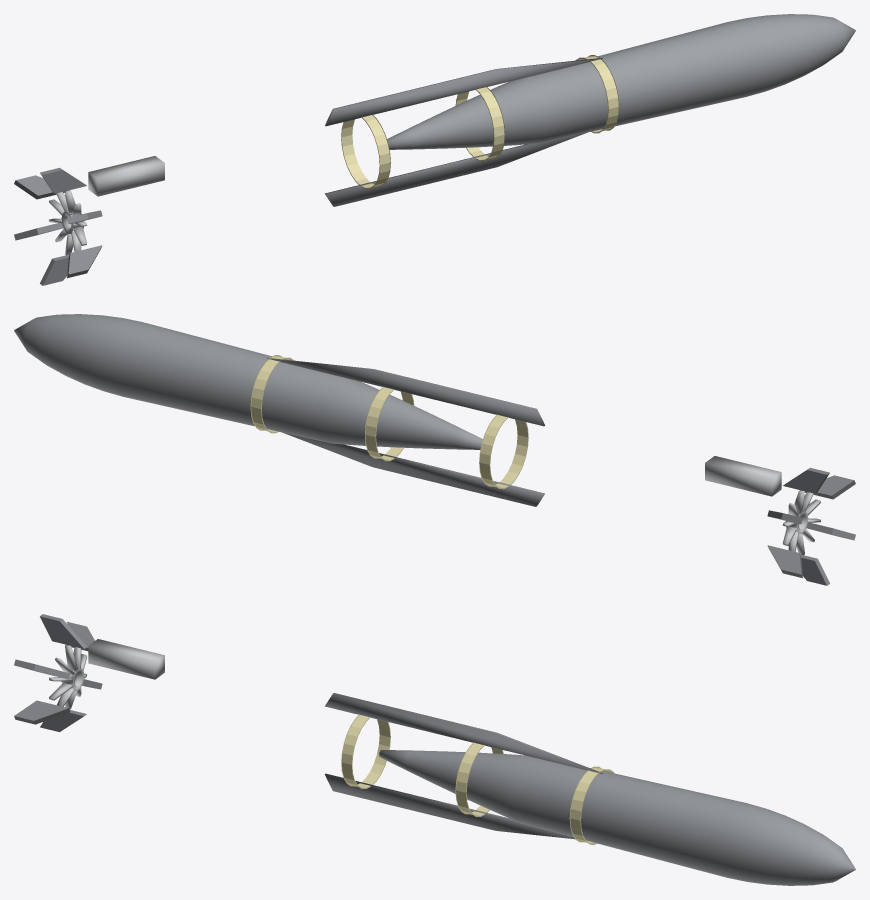
The model's file is RU_TORP_Fizik_LOD1.fbx.
The picture shows the model from 3 angles, top to bottom: view 1: azimuth 30°, elevation 25°; view 2: azimuth 150°, elevation 25°; view 3: azimuth 330°, elevation 25°; orthographic projection.
Visible parts, largest first — view 1: WPN_RU_TORP_Fizik_LOD1_Body, WPN_RU_TORP_Fizik_LOD1_Detail, WPN_RU_TORP_Fizik_LOD1_Marking, WPN_RU_TORP_Fizik_LOD1_Fins, WPN_RU_TORP_Fizik_LOD1_Propulsor; view 2: WPN_RU_TORP_Fizik_LOD1_Body, WPN_RU_TORP_Fizik_LOD1_Detail, WPN_RU_TORP_Fizik_LOD1_Marking, WPN_RU_TORP_Fizik_LOD1_Fins, WPN_RU_TORP_Fizik_LOD1_Propulsor; view 3: WPN_RU_TORP_Fizik_LOD1_Body, WPN_RU_TORP_Fizik_LOD1_Detail, WPN_RU_TORP_Fizik_LOD1_Marking, WPN_RU_TORP_Fizik_LOD1_Fins, WPN_RU_TORP_Fizik_LOD1_Propulsor.
Boxes of the visible parts, x1,y1,x2,y2 form: WPN_RU_TORP_Fizik_LOD1_Body: (387,14,855,149); WPN_RU_TORP_Fizik_LOD1_Detail: (88,58,602,206); WPN_RU_TORP_Fizik_LOD1_Marking: (341,55,619,189); WPN_RU_TORP_Fizik_LOD1_Fins: (14,167,102,285); WPN_RU_TORP_Fizik_LOD1_Propulsor: (49,190,87,255); WPN_RU_TORP_Fizik_LOD1_Body: (14,314,482,449); WPN_RU_TORP_Fizik_LOD1_Detail: (267,358,781,506); WPN_RU_TORP_Fizik_LOD1_Marking: (250,355,528,489); WPN_RU_TORP_Fizik_LOD1_Fins: (767,467,855,585); WPN_RU_TORP_Fizik_LOD1_Propulsor: (782,490,820,555); WPN_RU_TORP_Fizik_LOD1_Body: (379,750,855,885); WPN_RU_TORP_Fizik_LOD1_Detail: (88,639,602,839); WPN_RU_TORP_Fizik_LOD1_Marking: (341,714,613,844); WPN_RU_TORP_Fizik_LOD1_Fins: (14,614,102,732); WPN_RU_TORP_Fizik_LOD1_Propulsor: (49,644,87,709).
Bounding box in the file's own units: 6.49 × 0.753 × 0.8449.
